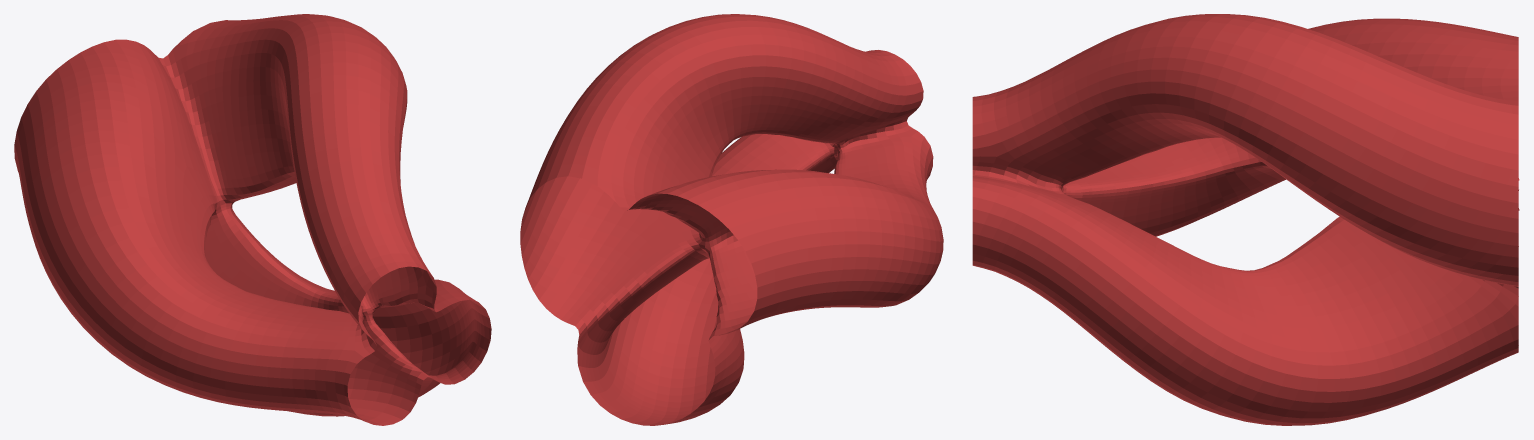
The model's file is 20190808_frstCastingTest_lessOverhanging.OBJ.
3 renders of one model, left to right at view 1: azimuth 30°, elevation 25°; view 2: azimuth 150°, elevation 25°; view 3: azimuth 270°, elevation 25°, orthographic. The views are drawn at different scales.
Size of the model in its own units: 342 by 360 by 451.
